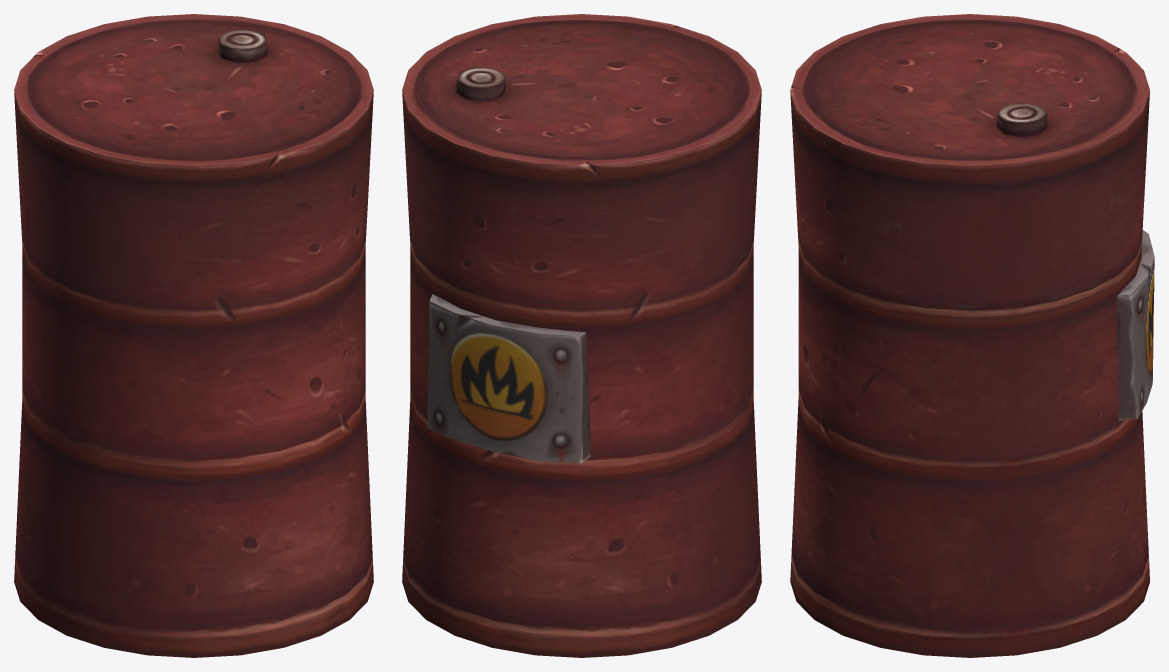
The model's file is Barrel Explosive Curved 244 tris.fbx.
3 views of the same model, side by side, from view 1: azimuth 30°, elevation 25°; view 2: azimuth 150°, elevation 25°; view 3: azimuth 270°, elevation 25° (orthographic).
Visible parts, largest first — view 1: Barrel Explosive Curved 244 tris; view 2: Barrel Explosive Curved 244 tris; view 3: Barrel Explosive Curved 244 tris.
Boxes of the visible parts, box(x1,y1,x2,y2) form: Barrel Explosive Curved 244 tris: box(14, 14, 373, 657); Barrel Explosive Curved 244 tris: box(402, 14, 761, 657); Barrel Explosive Curved 244 tris: box(790, 14, 1154, 657).
Bounding box in the file's own units: 389 × 603 × 394.
